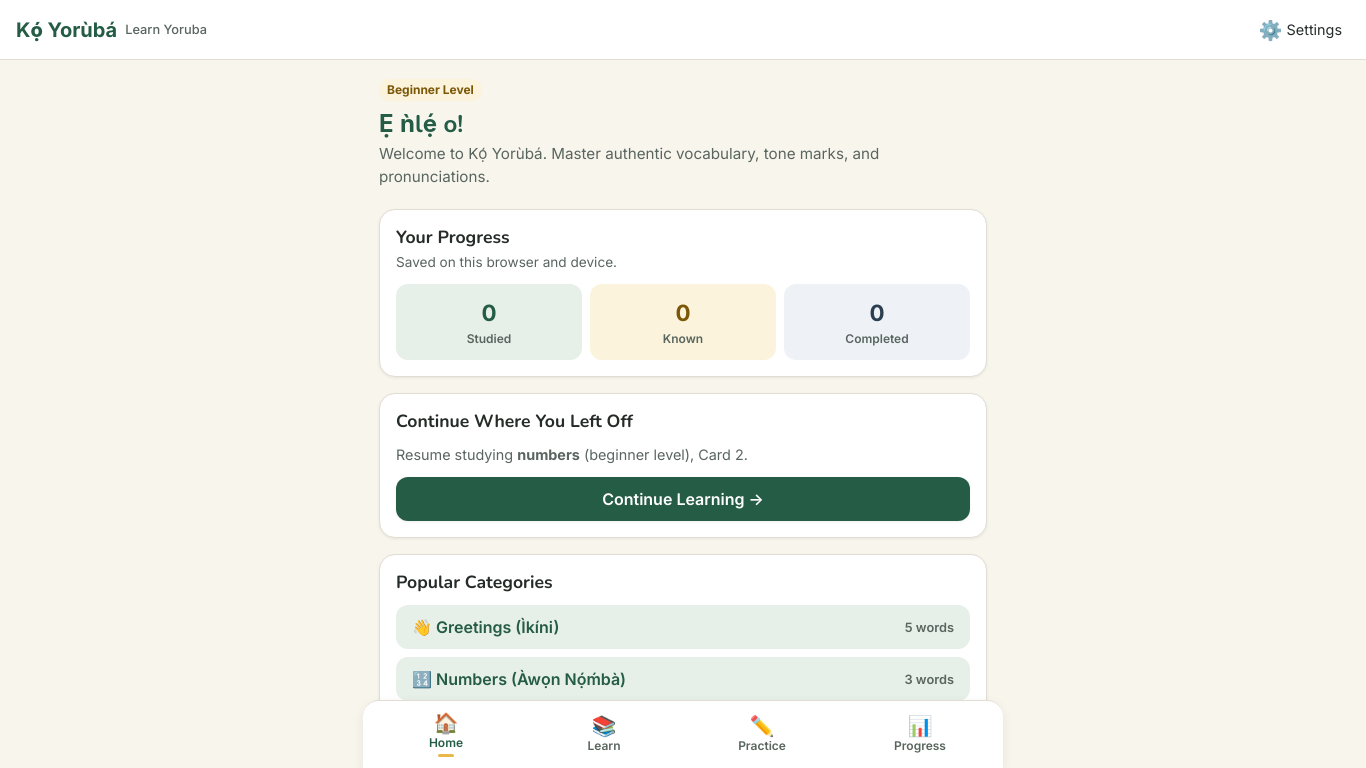
Test case: Home Screen Continue Learning and Progress Totals › resumes the last lesson and card position via Continue Learning
The width and height of the screenshot is (1366, 768).
Click the button with aria-label "Continue learning numbers in beginner". click: click(683, 499)
box: [396,477,970,521]
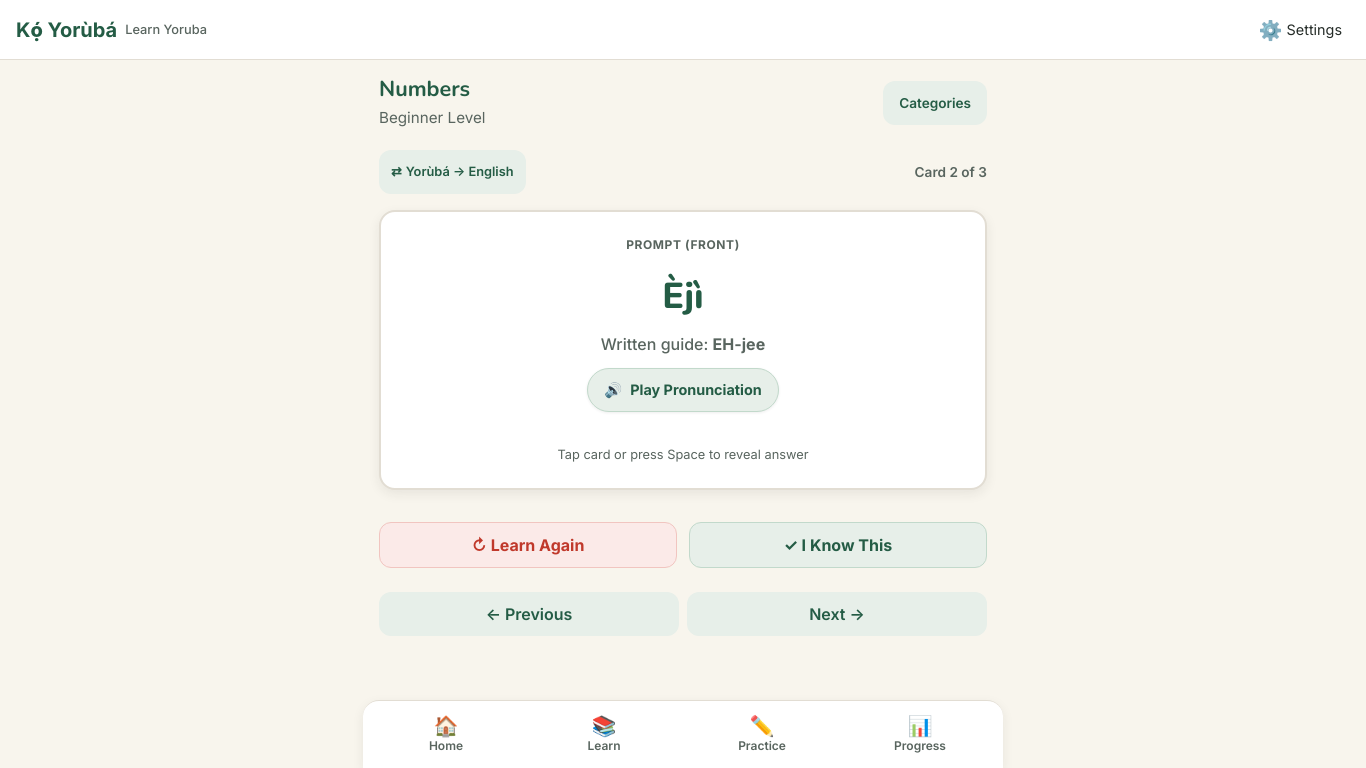
Expected: the text "Card 2 of 3" is shown, [915,162,987,182]
Expected: the text "Èjì" is shown, [662,272,704,321]
